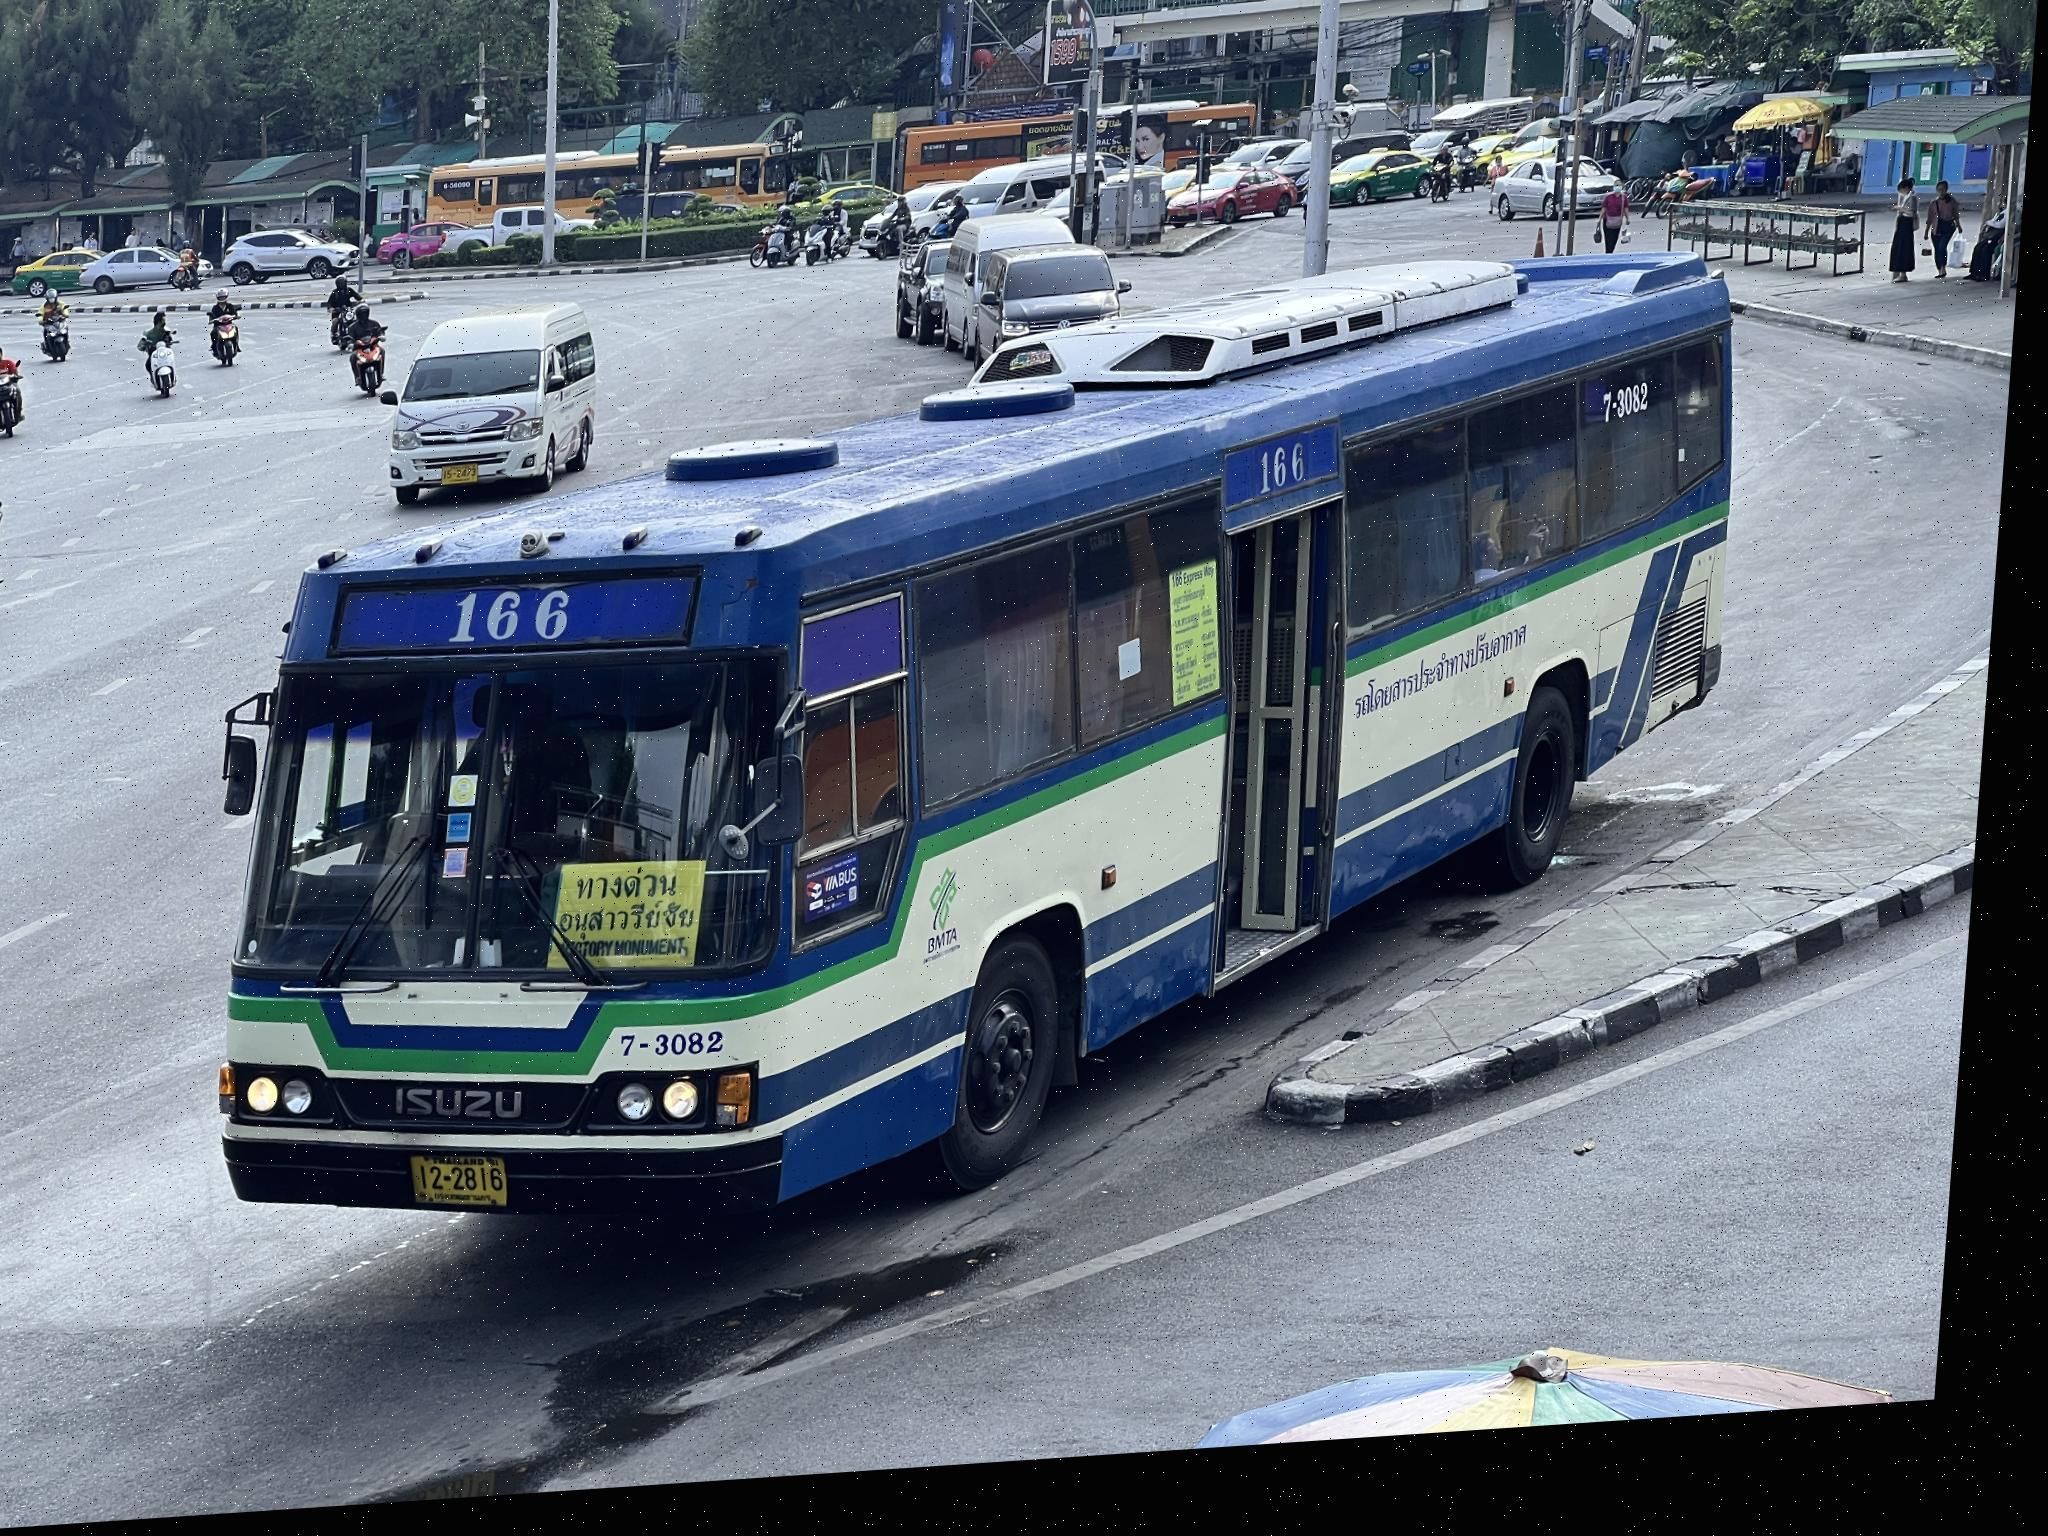BMTA-bus: (229, 278, 1748, 1238)
Bus Line Number: (439, 570, 605, 674), (1261, 447, 1322, 526)
Bus Side Number: (624, 1028, 758, 1081), (1606, 400, 1666, 449)
Destination Sign: (564, 860, 721, 984)
